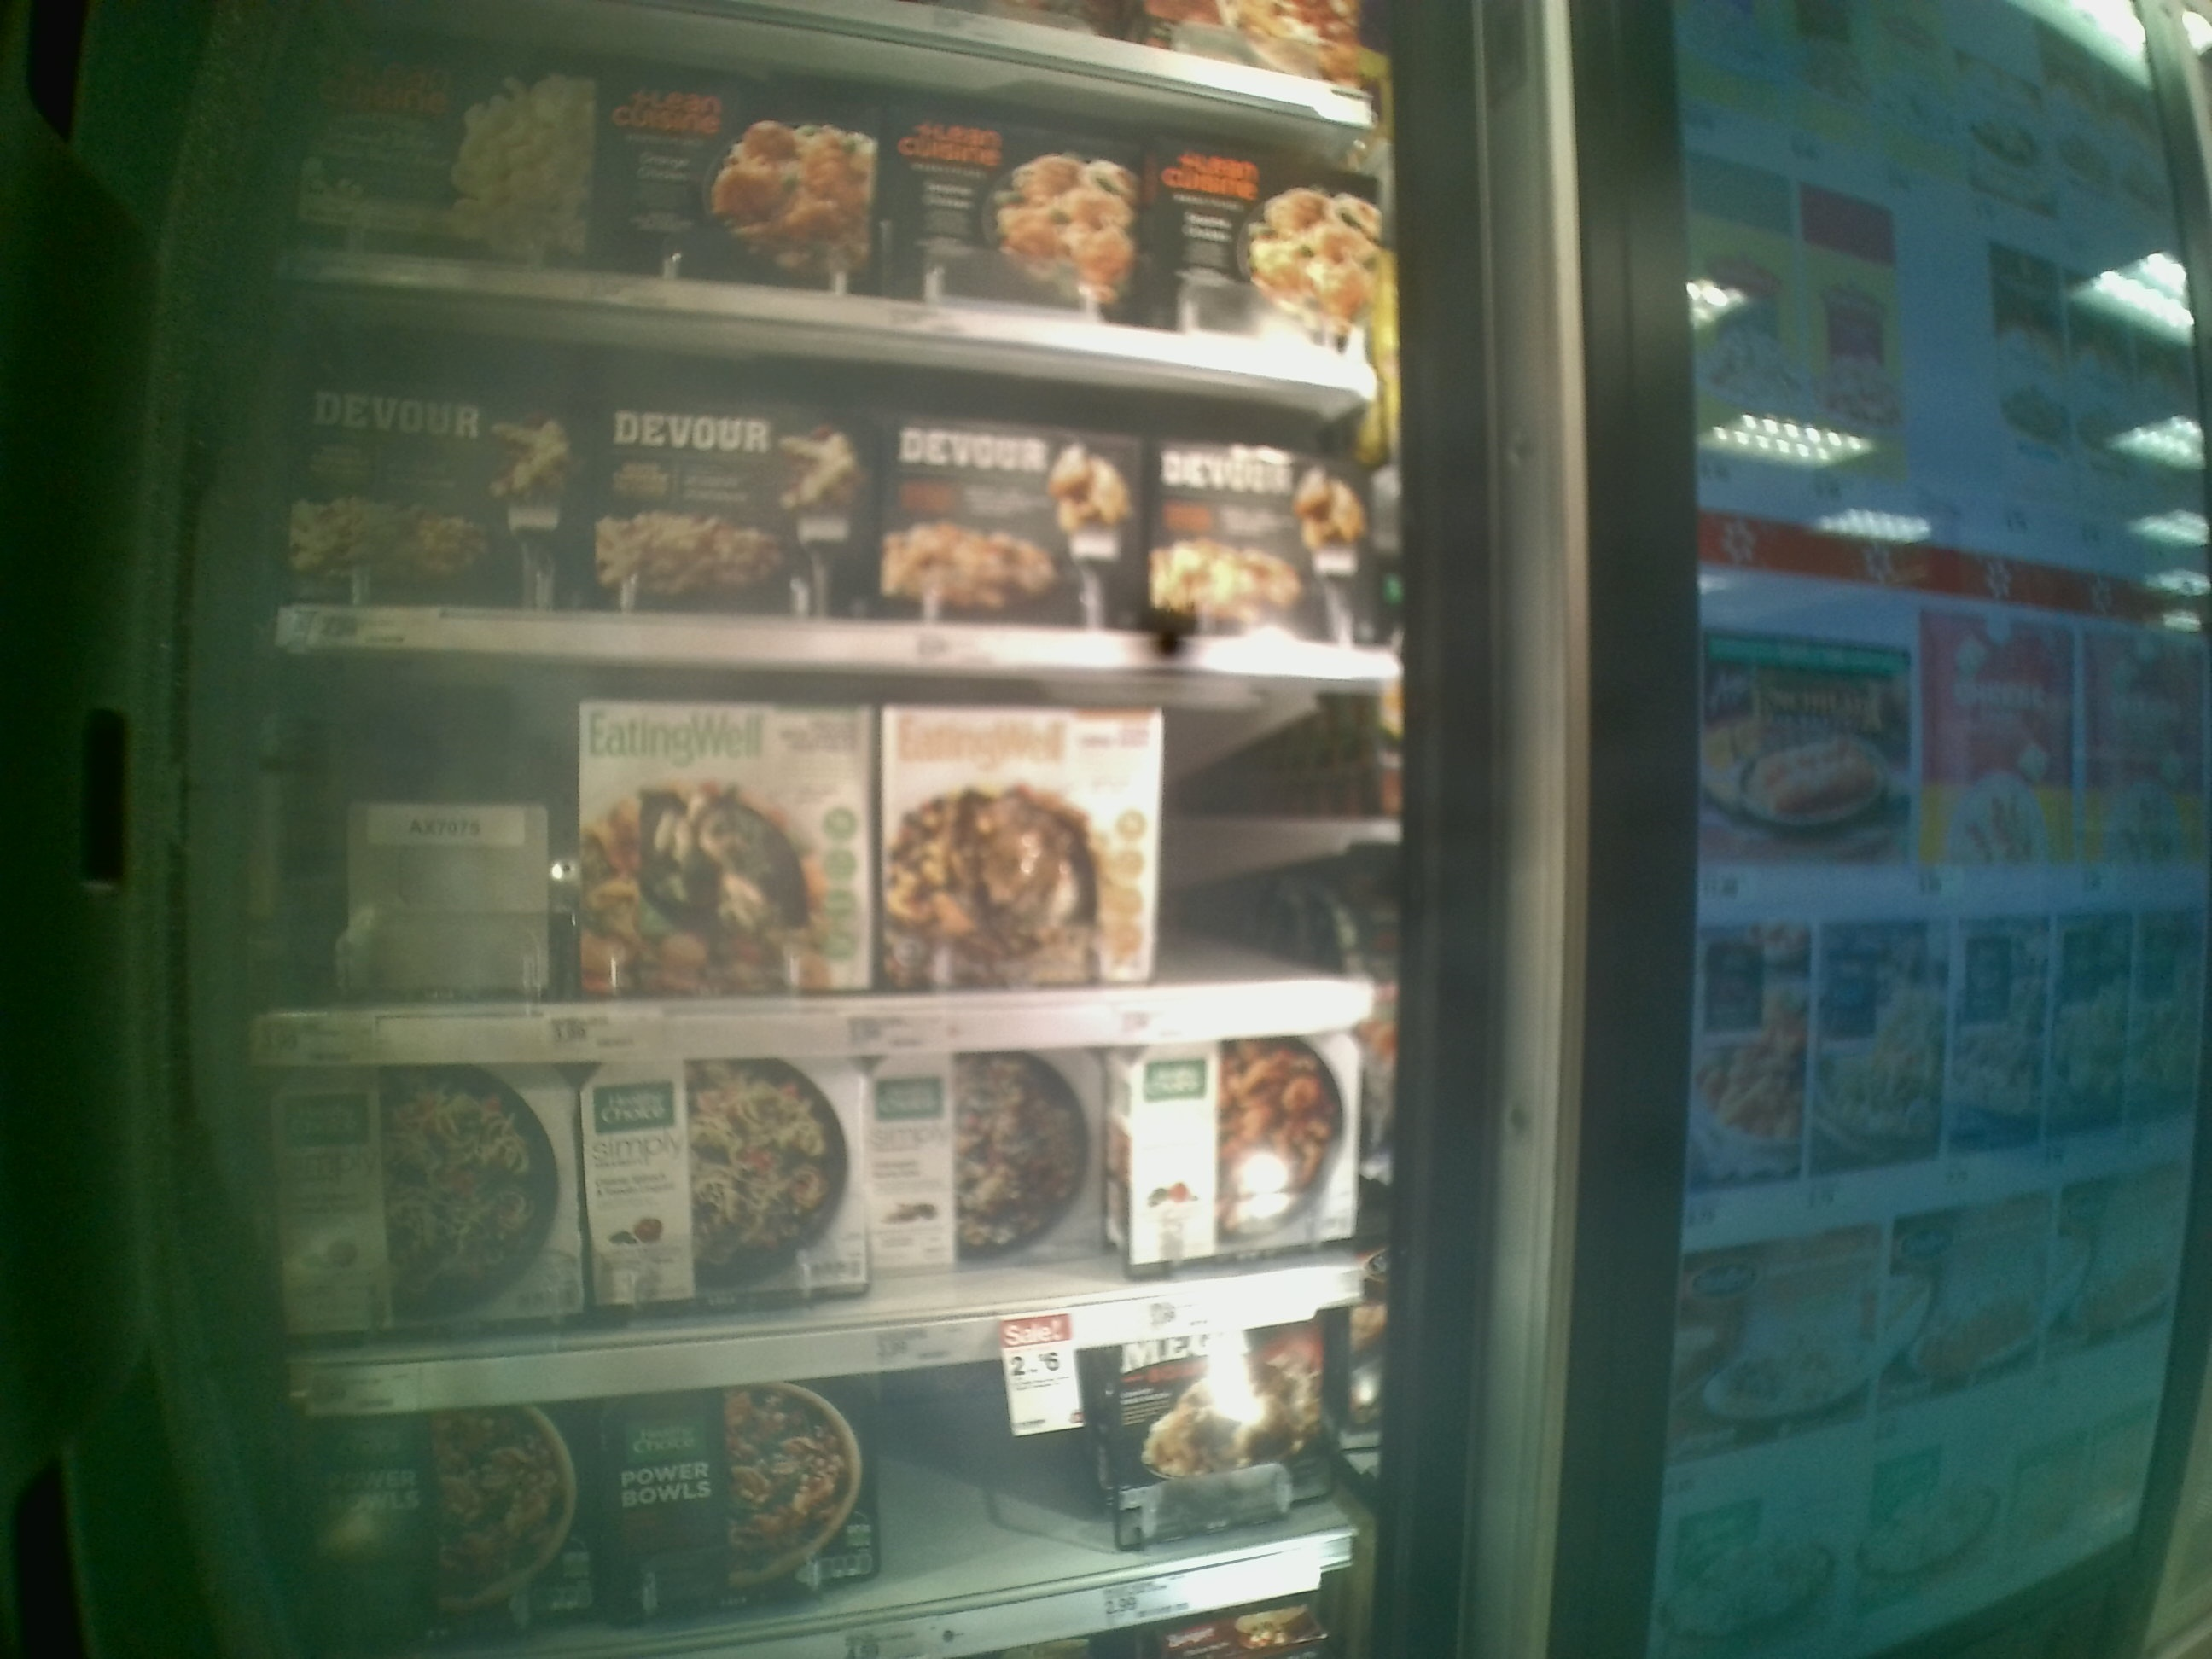pizza: (277, 1063, 568, 1345), (582, 701, 864, 985), (585, 1060, 881, 1324), (883, 702, 1158, 978), (289, 30, 582, 265), (317, 1396, 597, 1622), (587, 390, 862, 620), (592, 73, 874, 295), (1115, 1030, 1374, 1270), (280, 387, 566, 598), (625, 1392, 894, 1615), (881, 96, 1144, 319), (881, 411, 1139, 633), (1111, 1316, 1346, 1542), (1160, 131, 1381, 366), (1160, 416, 1371, 647), (881, 1060, 1103, 1274)
